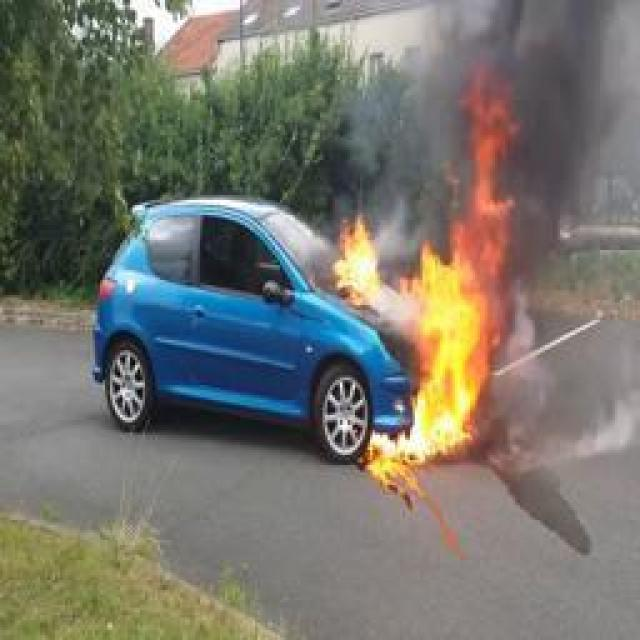Fire: (334, 59, 518, 464)
